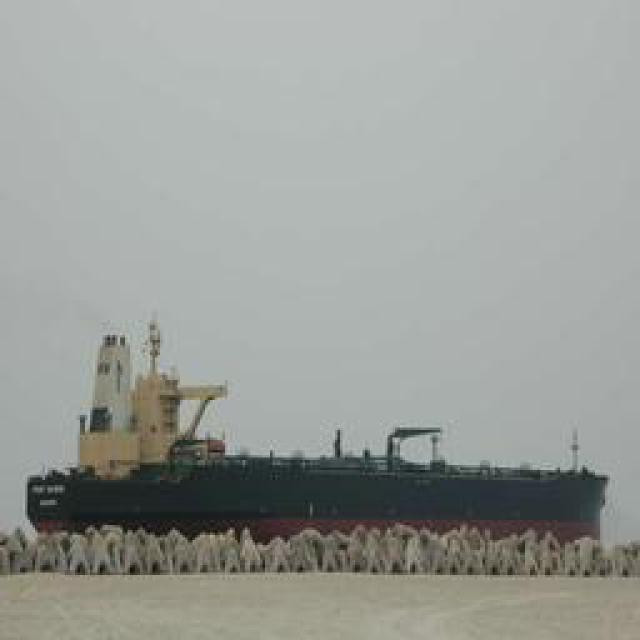Ship: (20, 436, 608, 529)
